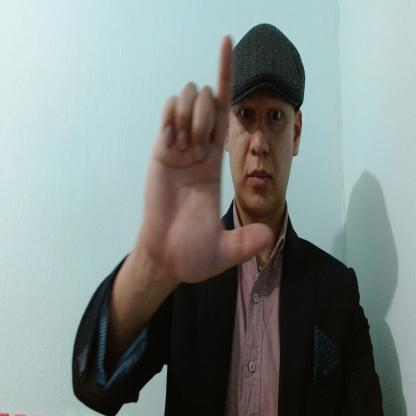L: (143, 34, 273, 282)
